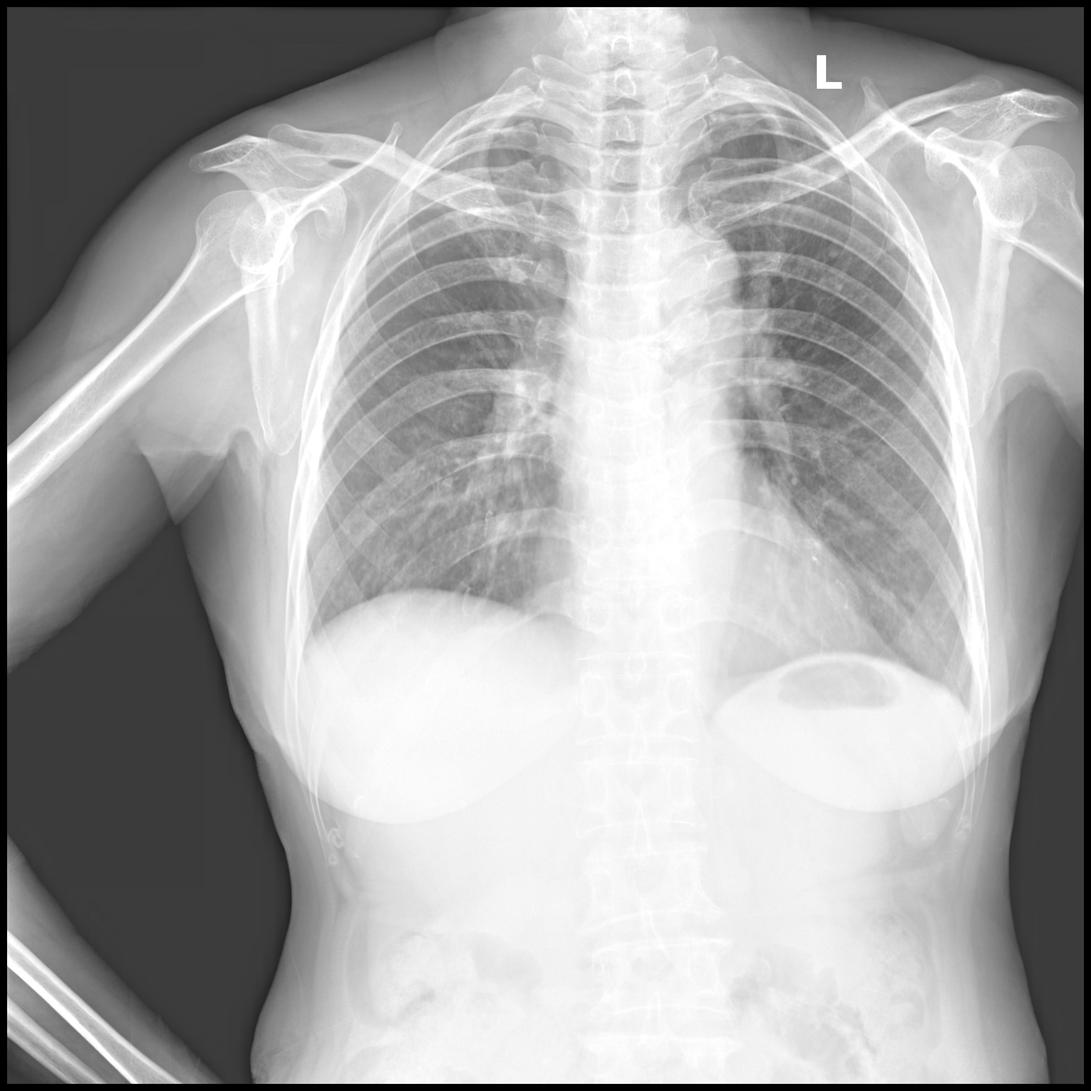Aortic enlargement: (656, 228, 750, 346)
